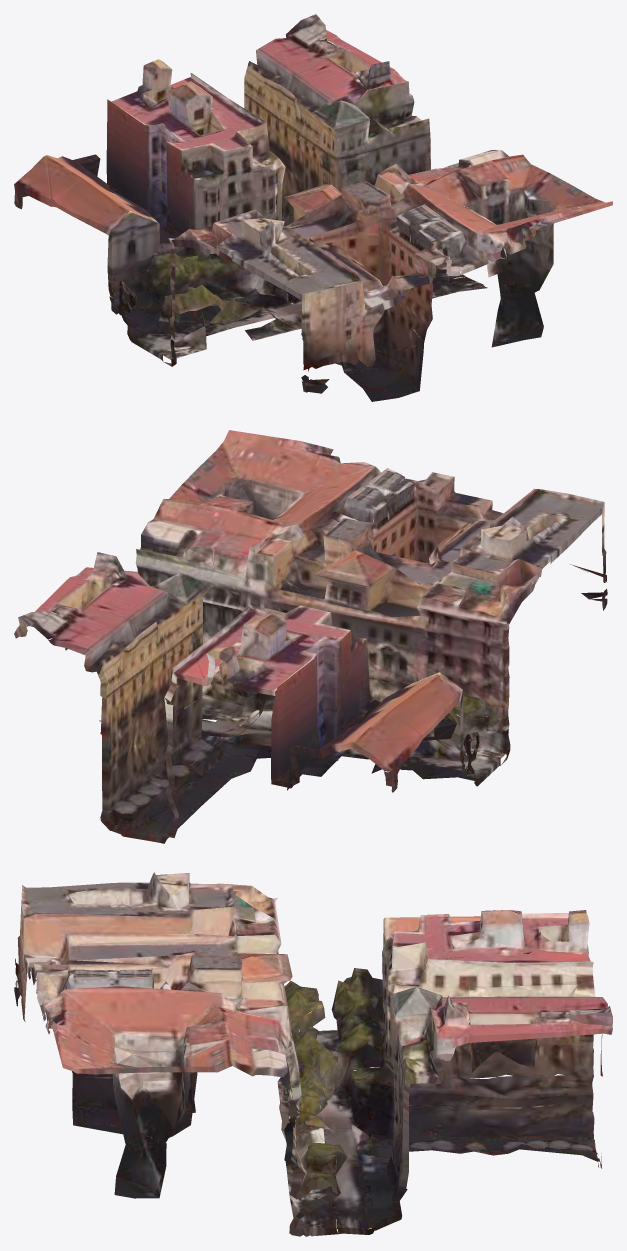
3 renders of one model, top to bottom at view 1: azimuth 30°, elevation 25°; view 2: azimuth 150°, elevation 25°; view 3: azimuth 270°, elevation 25°, orthographic. The views are drawn at different scales.
Visible parts, largest first — view 1: Mesh_0; view 2: Mesh_0; view 3: Mesh_0.
Boxes of the visible parts, <box> form: Mesh_0: <box>14,14,612,401</box>; Mesh_0: <box>14,430,607,843</box>; Mesh_0: <box>14,872,612,1236</box>.
Size of the model in its own units: 66.58 by 32.98 by 82.48.
1 material, 1 textured.
